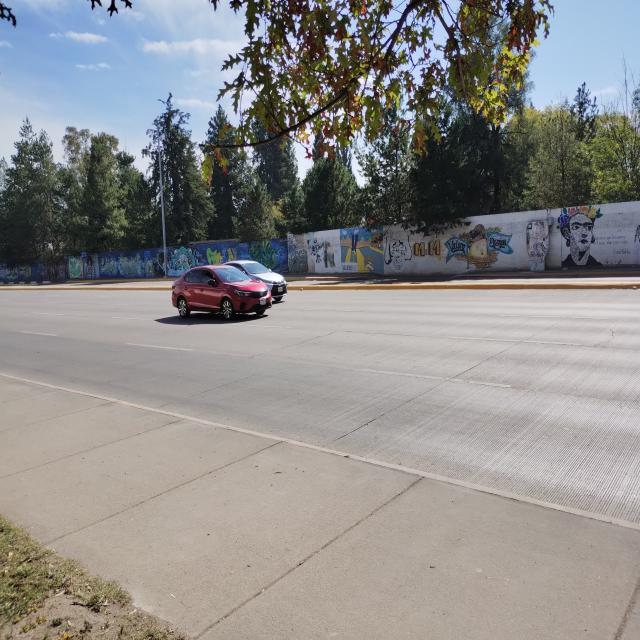Auto: (170, 264, 273, 319), (220, 258, 289, 306)
